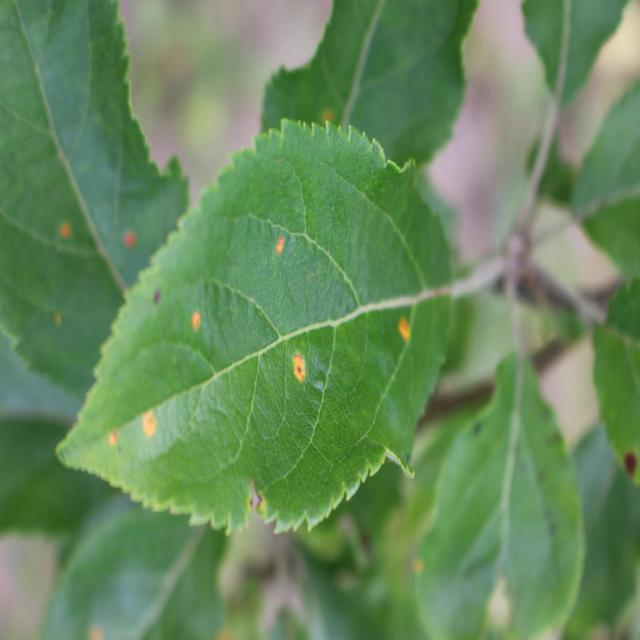Rust: (391, 300, 420, 363), (284, 337, 313, 394), (137, 394, 162, 444), (187, 297, 207, 348), (269, 226, 291, 268), (103, 425, 124, 453)
